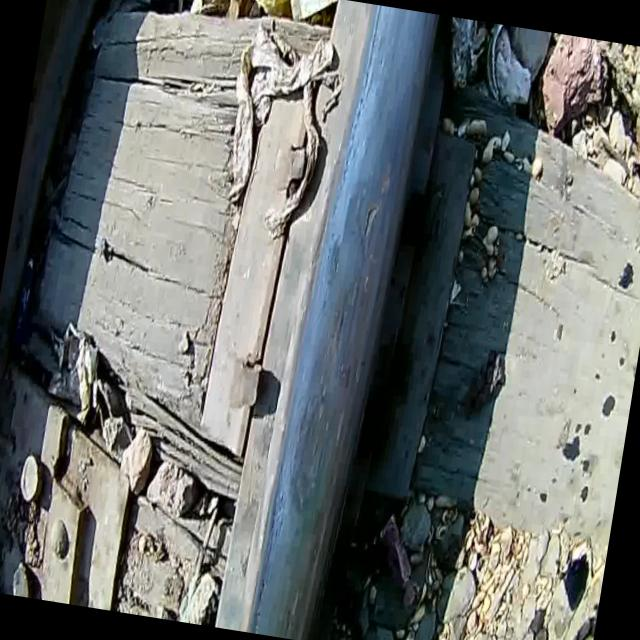Squats: (226, 0, 455, 640)
